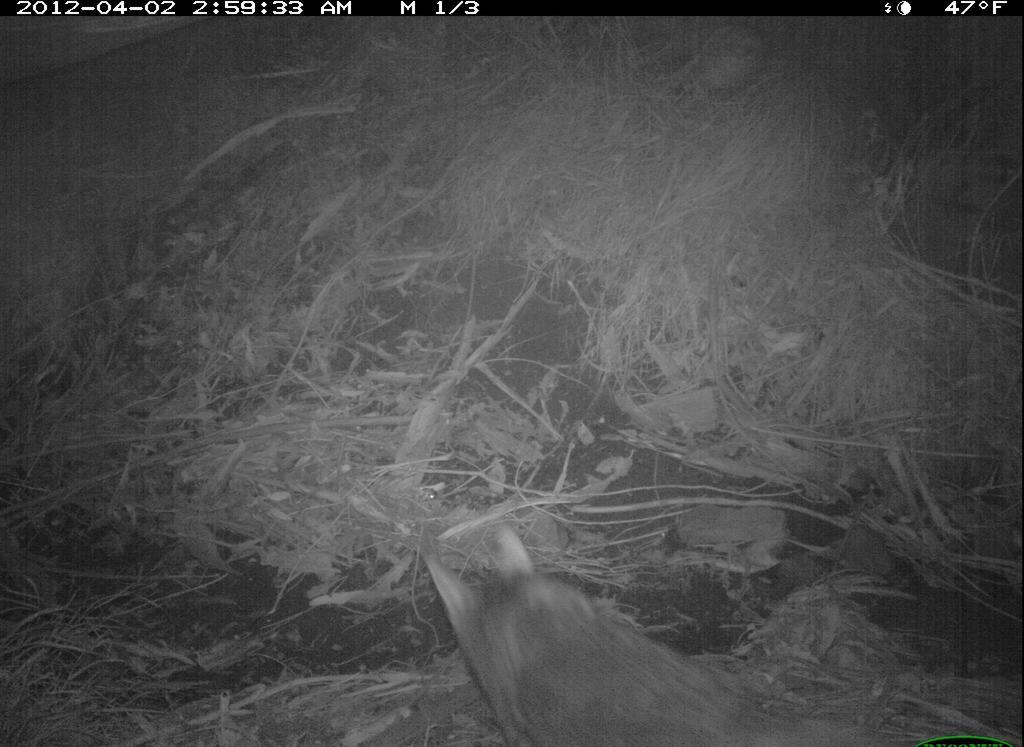coyote: (411, 521, 839, 747)
